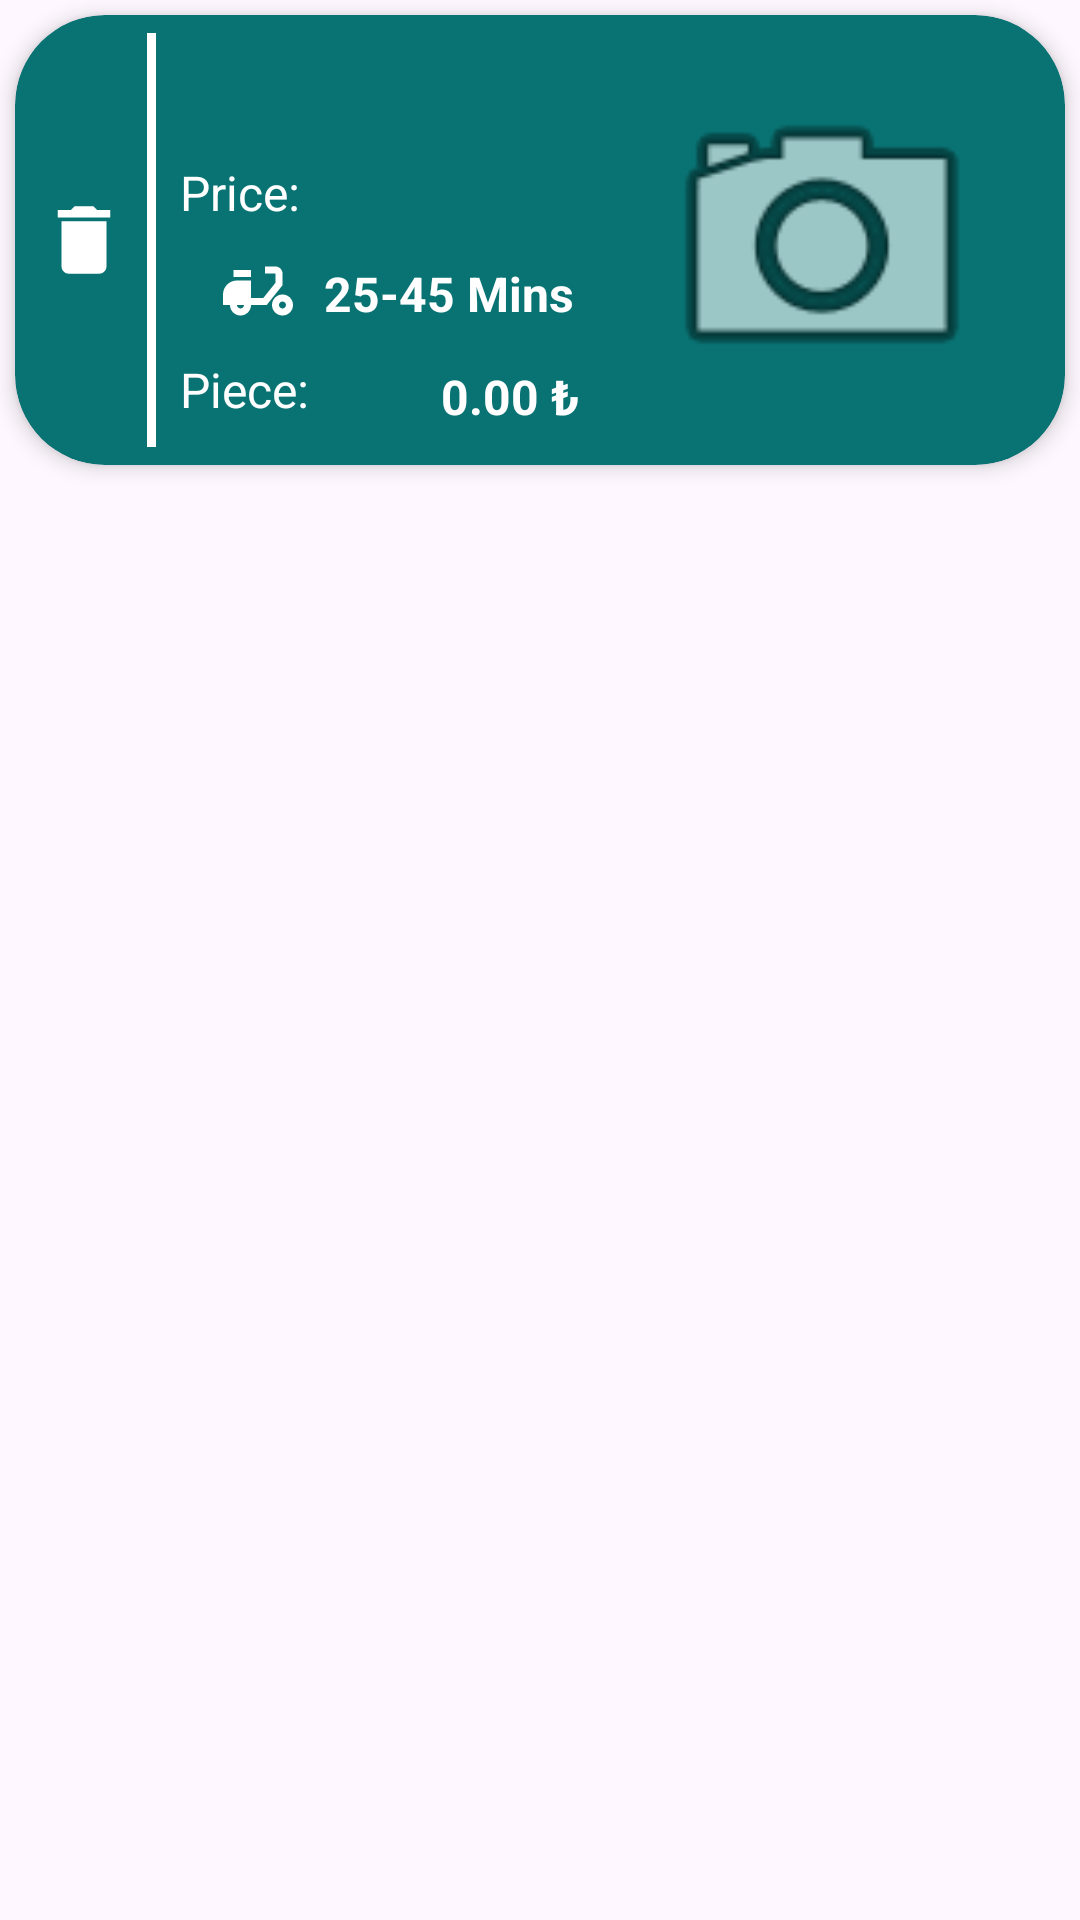

Where to tap for icons on this 1080*1920 app screen, as [x,y]:
camera: [822,234]
delete: [84,240]
delivery: [258,291]
